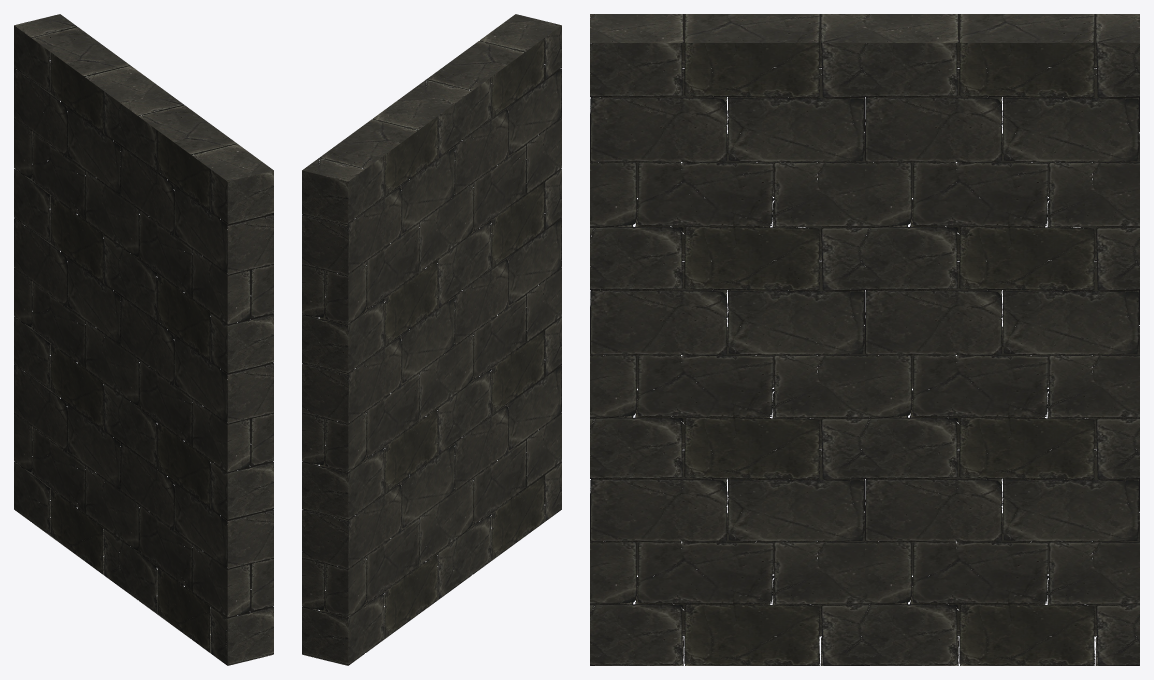
3 views of the same model, side by side, from view 1: azimuth 30°, elevation 25°; view 2: azimuth 150°, elevation 25°; view 3: azimuth 270°, elevation 25° (orthographic). The views are drawn at different scales.
Visible parts, largest first — view 1: SM_Dowdun_Wall_8x10_01_LOD0; view 2: SM_Dowdun_Wall_8x10_01_LOD0; view 3: SM_Dowdun_Wall_8x10_01_LOD0.
Part boxes in pixels (x1,y1,x2,y2): SM_Dowdun_Wall_8x10_01_LOD0: [14, 14, 273, 665]; SM_Dowdun_Wall_8x10_01_LOD0: [302, 14, 561, 665]; SM_Dowdun_Wall_8x10_01_LOD0: [590, 14, 1139, 665].
Bounding box in the file's own units: 0.9998 × 10 × 8.
1 material, 1 textured.
